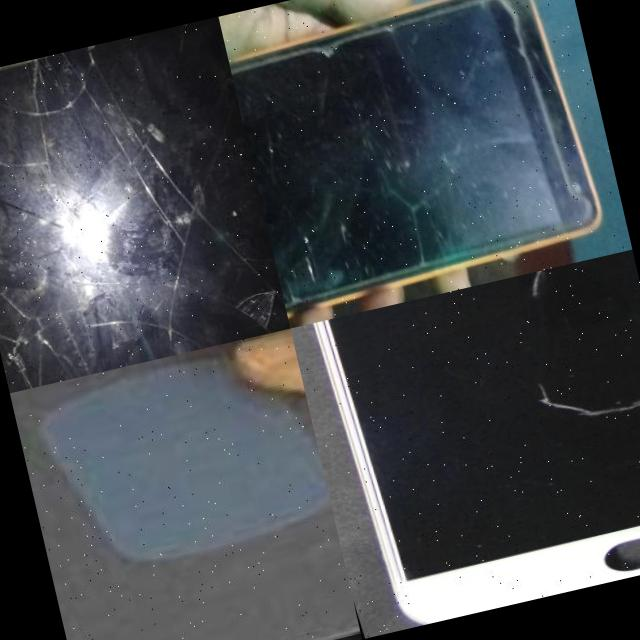scratch: (529, 357, 640, 433), (511, 263, 573, 300)
screen crack: (0, 27, 239, 392), (312, 74, 524, 290), (278, 219, 330, 320)
